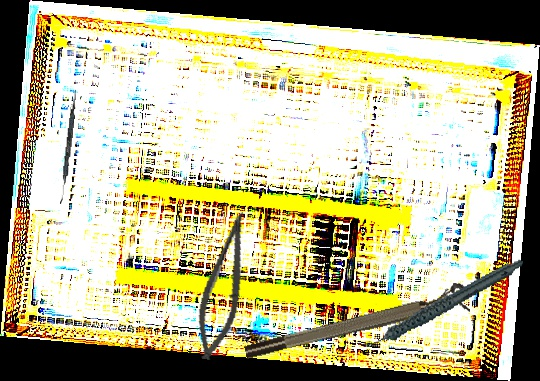Fixation Ring: (240, 281, 471, 363)
Handpiece: (347, 258, 534, 351)
Micro Scissor: (190, 207, 255, 364)
Spatula Surgical: (59, 89, 78, 205)
